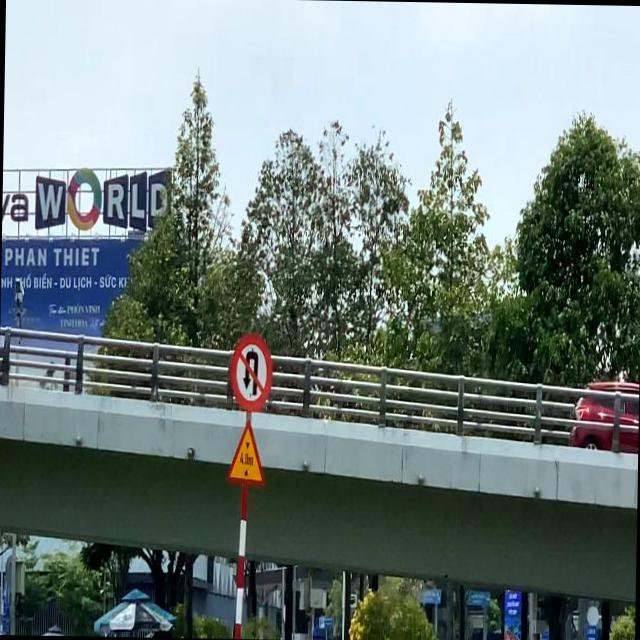P-124a1: (230, 334, 272, 414)
W-239b: (224, 421, 266, 484)
